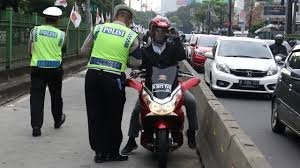mobil: (204, 37, 281, 100)
motor: (121, 66, 201, 168)
